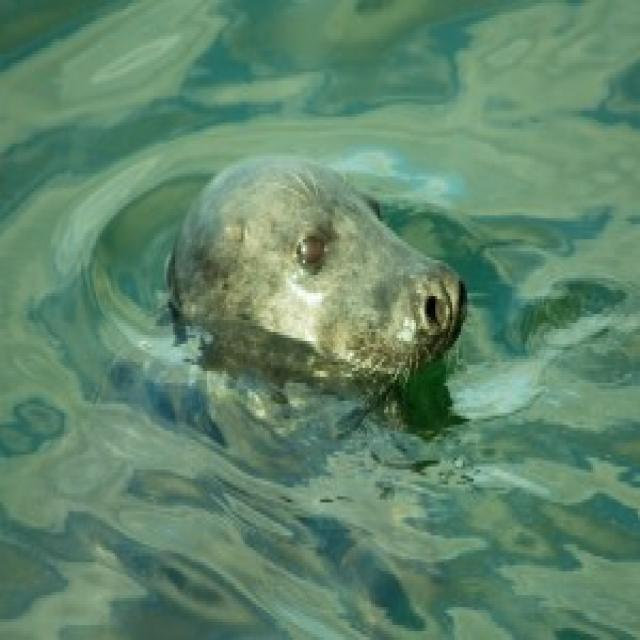Seal: (161, 141, 483, 390)
